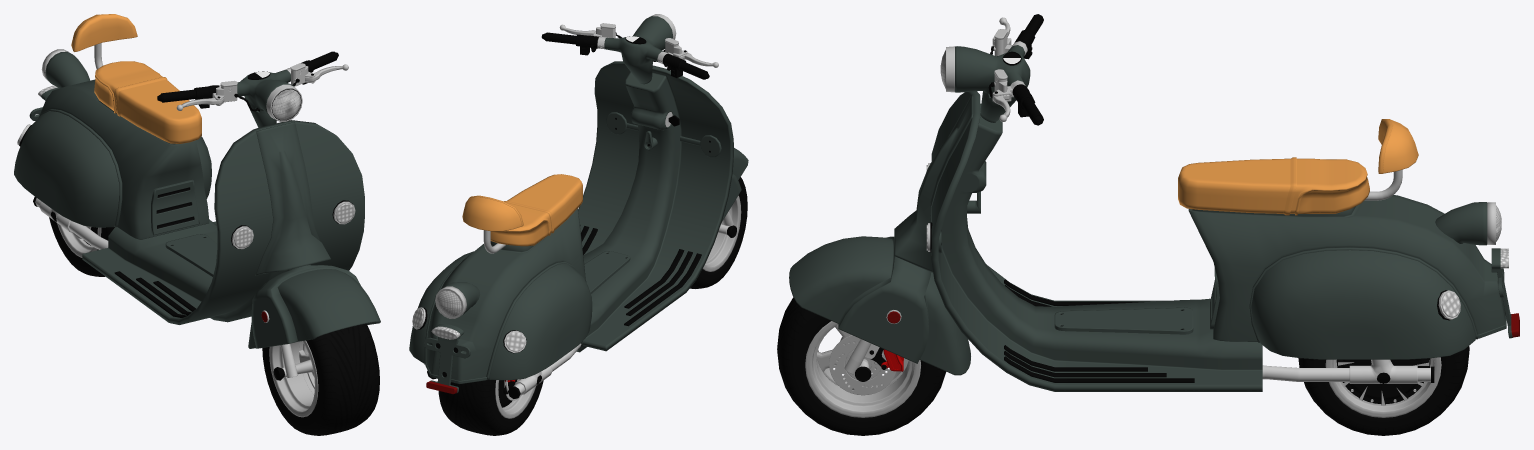
The model's file is motorcycle.glb.
The picture shows the model from 3 angles, left to right: view 1: azimuth 30°, elevation 25°; view 2: azimuth 150°, elevation 25°; view 3: azimuth 270°, elevation 25°; orthographic projection. The views are drawn at different scales.
Visible parts, largest first — view 1: Cube.006, Cylinder.009; view 2: Cube.006, Cylinder.009; view 3: Cube.006, Cylinder.009.
Boxes of the visible parts, <box> form: Cube.006: <box>14,14,380,380</box>; Cylinder.009: <box>49,217,379,435</box>; Cube.006: <box>409,14,748,398</box>; Cylinder.009: <box>438,177,747,435</box>; Cube.006: <box>789,14,1519,391</box>; Cylinder.009: <box>777,297,1469,435</box>.
Size of the model in its own units: 0.7007 by 1.17 by 2.08.
Materials: 3 (2 with a texture image).
